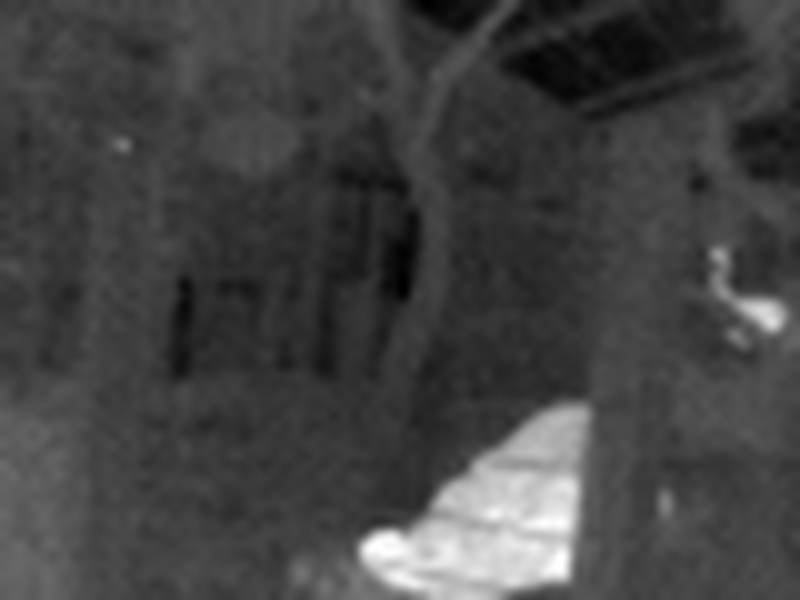elephant: (360, 401, 694, 600)
